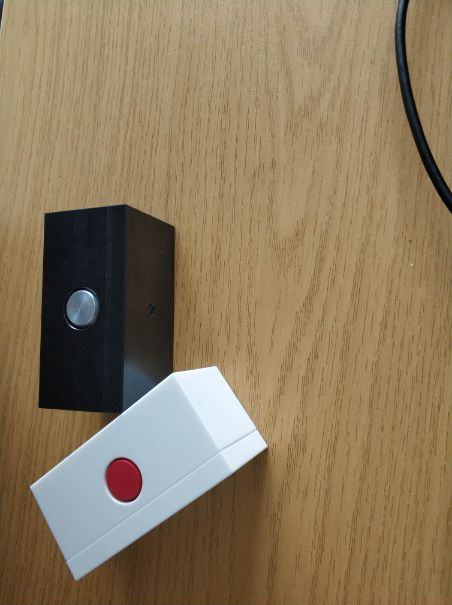black+black+silver: (34, 197, 179, 422)
white+white+red: (24, 364, 272, 586)
